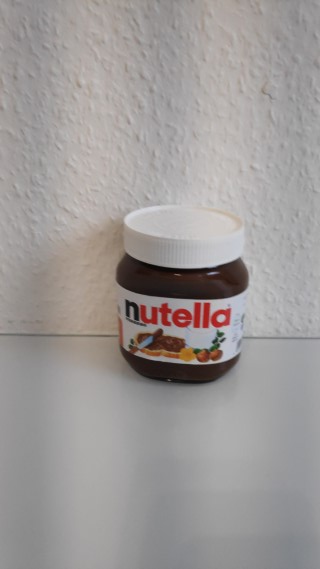nutella: (112, 201, 251, 386)
